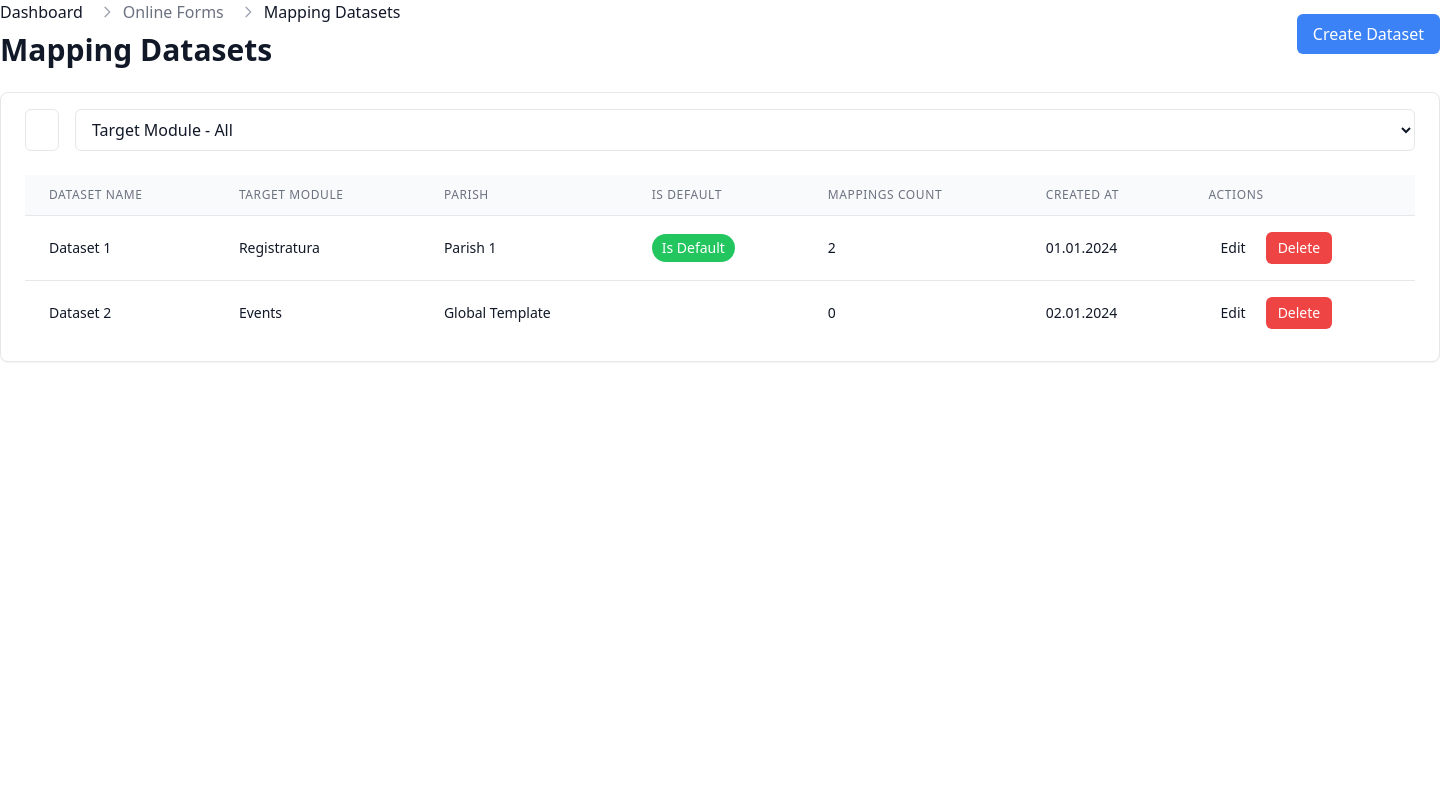
MappingDatasetsPageContent › should open delete confirmation modal
Click the button "Delete" in the row of "Dataset 1" at (1299, 248), box [1266,232,1332,264]
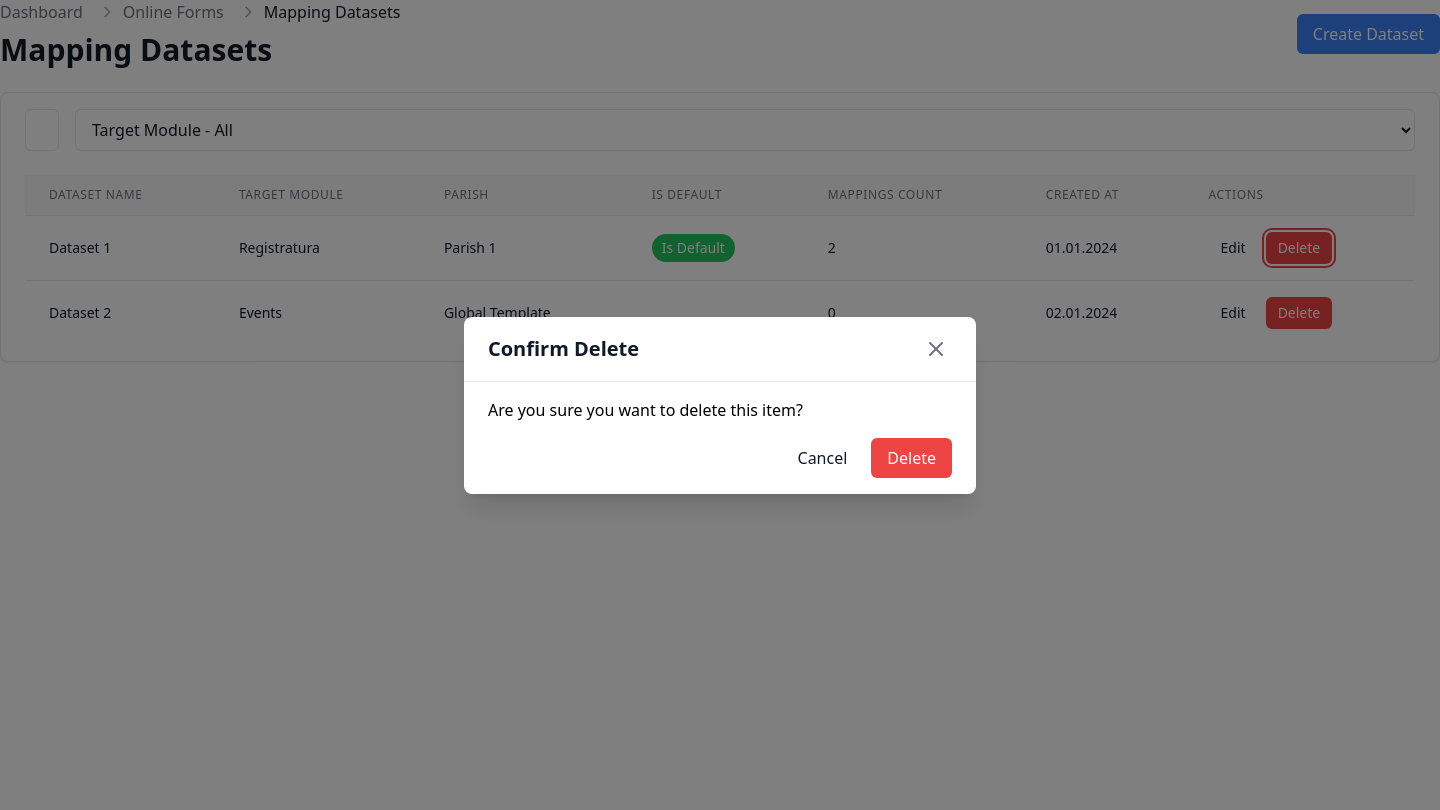
Expected: the heading "Confirm Delete" is shown, [488,334,639,362]
Expected: the text "Are you sure you want to delete this item?" is shown, [488,398,803,420]
